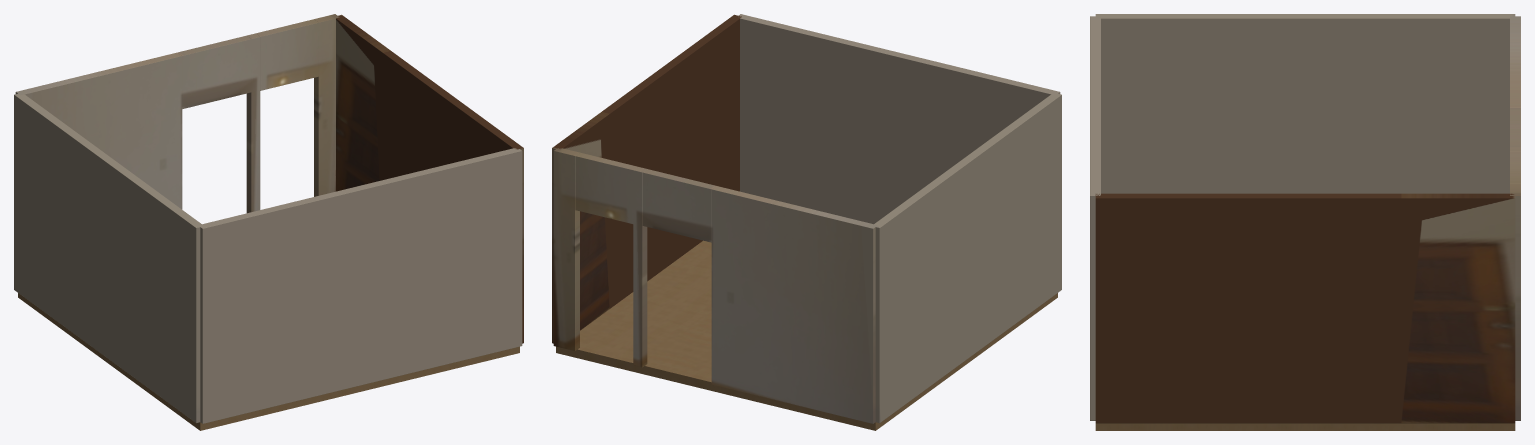
The model's file is room.glb.
3 renders of one model, left to right at view 1: azimuth 30°, elevation 25°; view 2: azimuth 150°, elevation 25°; view 3: azimuth 270°, elevation 25°, orthographic. The views are drawn at different scales.
Visible parts, largest first — view 1: front-estimated solid 0, left solid 0, right solid 0, back solid 0, back solid 1, back solid 4, back solid 3, Reconstructed floor, back solid 2; view 2: front-estimated solid 0, left solid 0, back solid 0, right solid 0, Reconstructed floor, back solid 4, back solid 1, back solid 3, back solid 2; view 3: right solid 0, left solid 0, Reconstructed floor, front-estimated solid 0, back solid 4, back solid 0, back solid 1.
Part boxes in pixels (x1,y1,x2,y2): front-estimated solid 0: (199,148,522,423); left solid 0: (14,93,203,423); right solid 0: (336,14,523,343); back solid 0: (15,52,182,209); back solid 1: (178,35,251,108); back solid 4: (314,14,339,196); back solid 3: (256,19,318,90); Reconstructed floor: (18,293,519,430); back solid 2: (246,33,260,213); front-estimated solid 0: (738,14,1060,224); left solid 0: (874,93,1061,423); back solid 0: (711,186,877,423); right solid 0: (552,14,741,343); Reconstructed floor: (556,240,1057,430); back solid 4: (553,148,579,350); back solid 1: (642,169,715,242); back solid 3: (575,152,637,223); back solid 2: (633,167,647,367); right solid 0: (1095,193,1515,423); left solid 0: (1095,14,1515,193); Reconstructed floor: (1095,423,1515,430); front-estimated solid 0: (1090,16,1100,420); back solid 4: (1510,184,1520,420); back solid 0: (1510,16,1520,107); back solid 1: (1510,107,1520,145).
Bounding box in the file's own units: 4.74 × 2.82 × 4.68.
5 materials, 4 textured.
